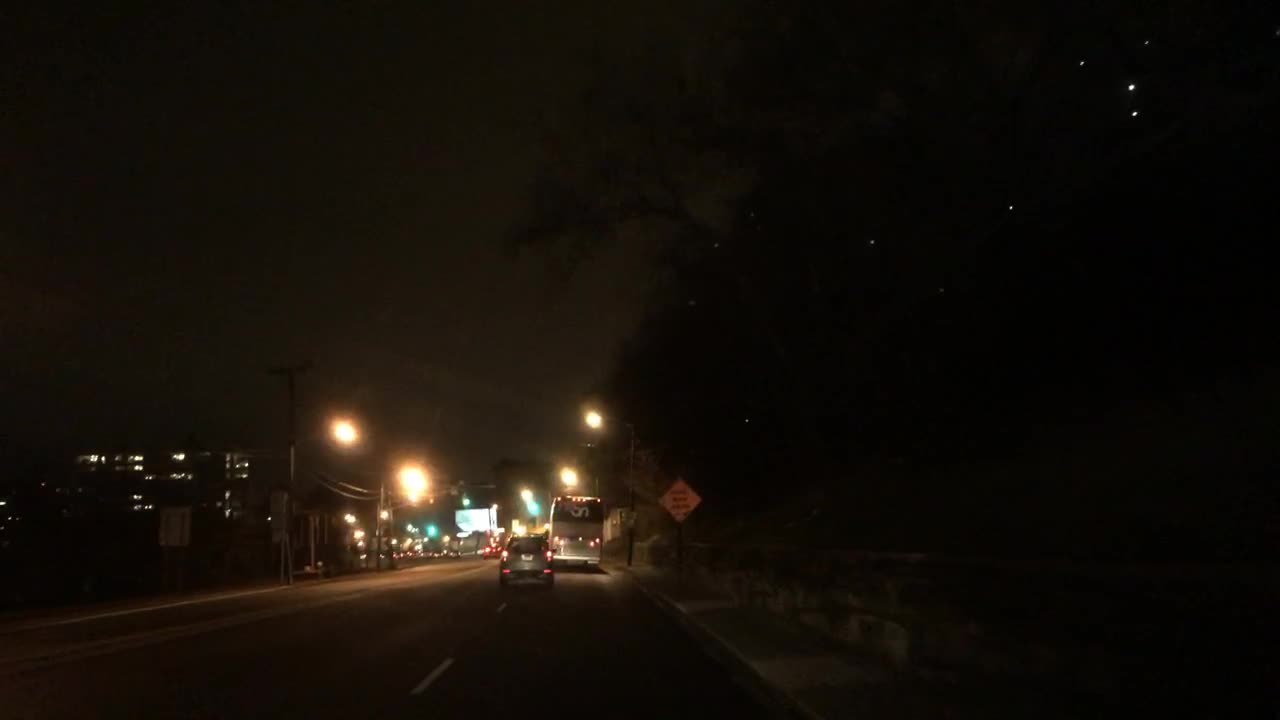bus: (551, 494, 603, 566)
car: (501, 534, 555, 586), (480, 541, 501, 558)
traffic light: (461, 495, 470, 509), (426, 525, 434, 540)
traffic sign: (653, 476, 701, 524), (157, 505, 188, 546)
